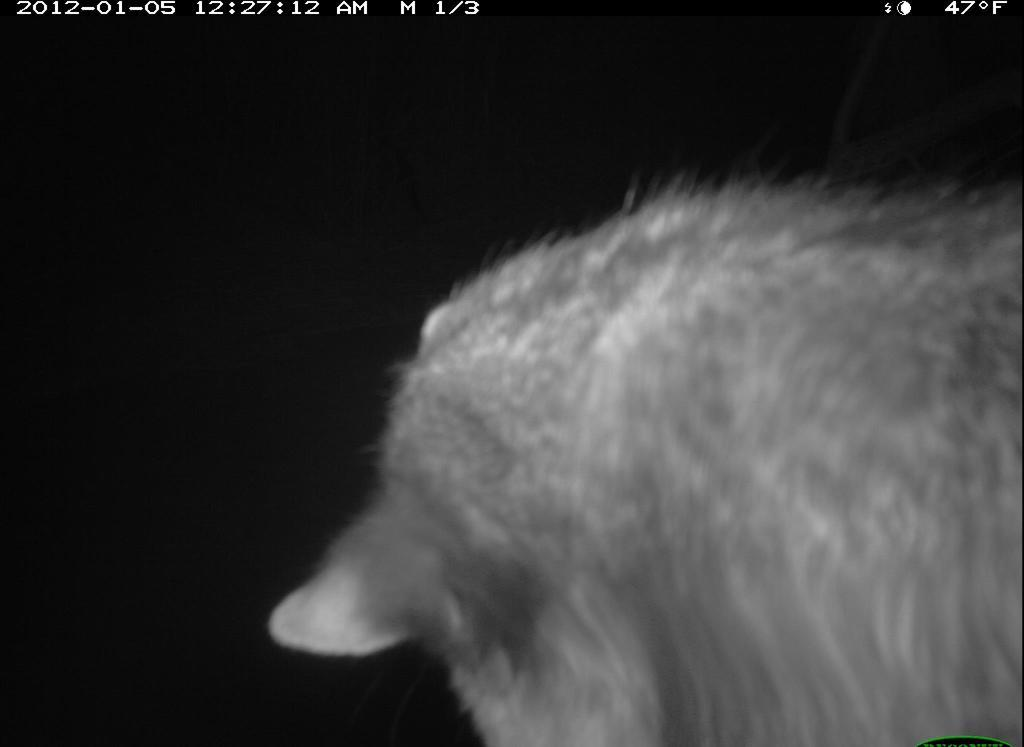raccoon: (251, 167, 1023, 747)
